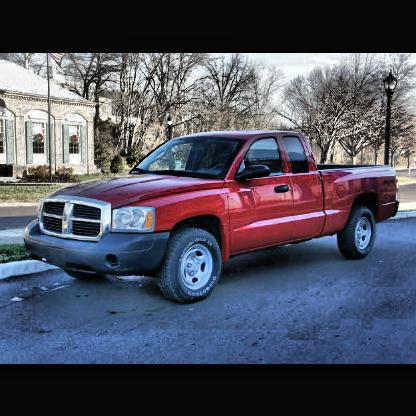Dodge Dakota Club Cab 2007: (27, 129, 402, 304)
